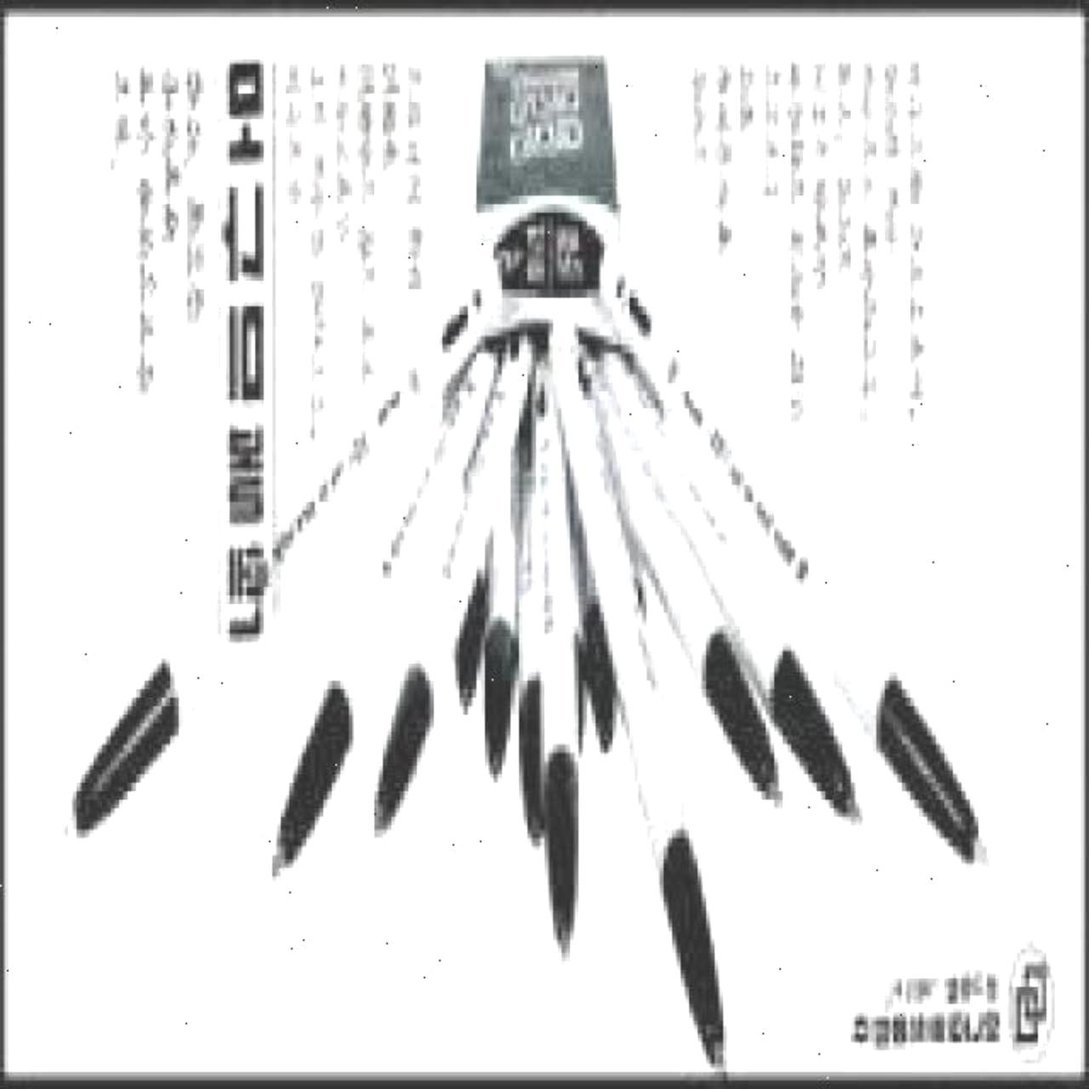pen: (54, 243, 510, 864), (575, 226, 992, 895), (584, 337, 864, 847), (548, 306, 732, 1063), (260, 320, 499, 895), (573, 354, 783, 830), (366, 315, 533, 847), (527, 332, 579, 975)
